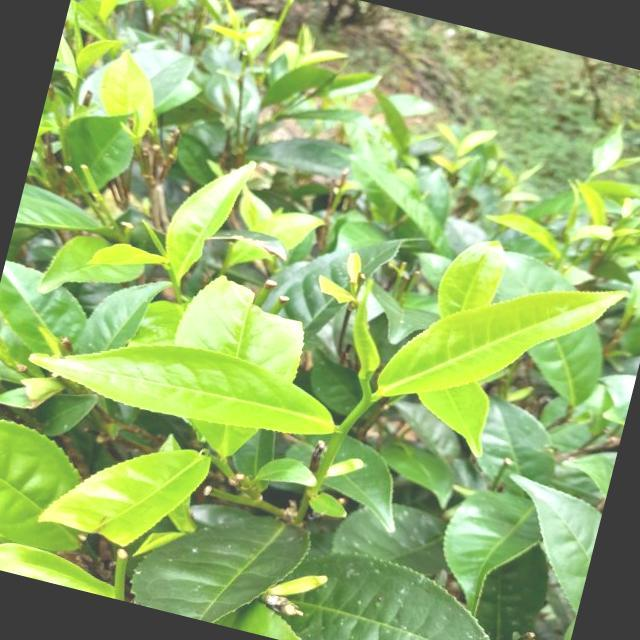Stem: (348, 398, 371, 420), (562, 244, 570, 254), (174, 286, 180, 296)
